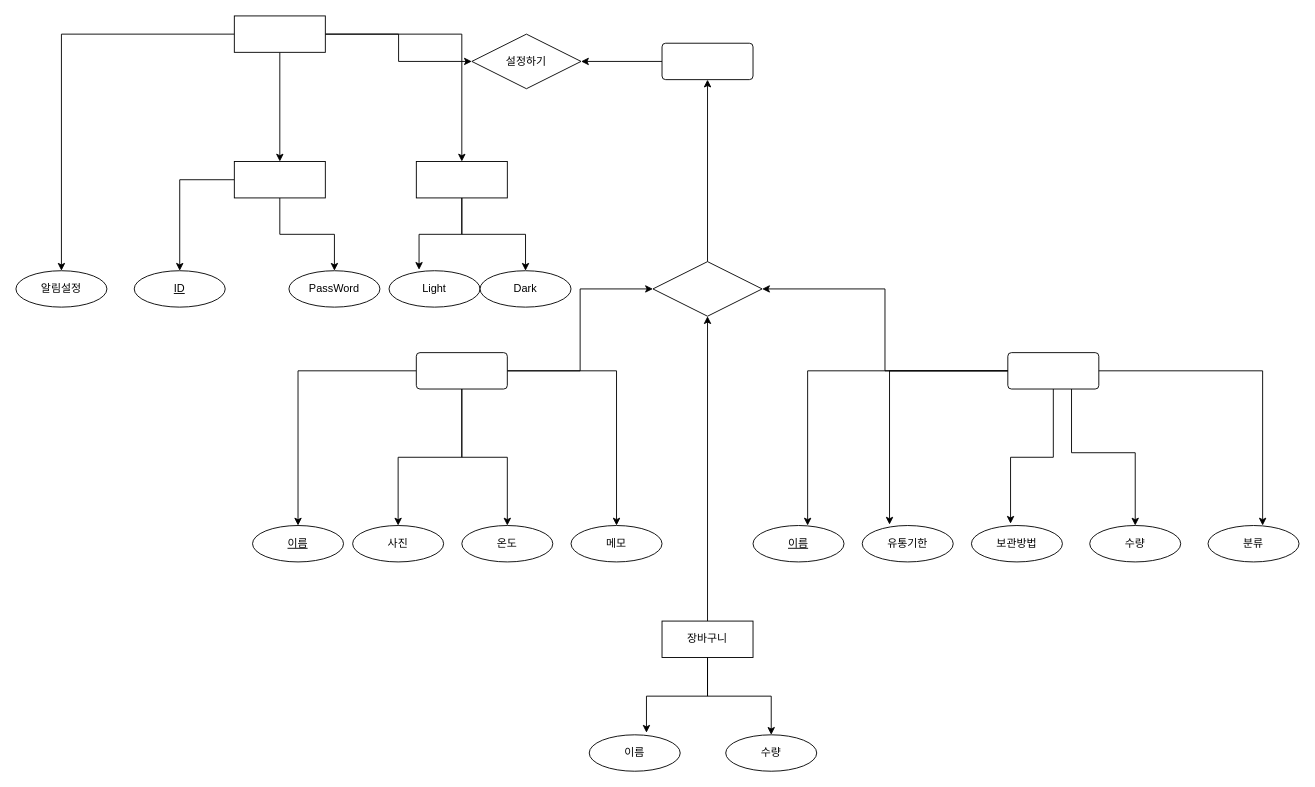
Image size: 1315x787. Some labels were removed from this diagram. Here are the shapes that lost their labels. From the top down, the centre of each, then its label:
the point at 279,33: 설정
the point at 707,61: 사용자
the point at 279,179: 로그인
the point at 461,179: 테마
the point at 707,288: 추가
the point at 461,370: 냉장고
the point at 1053,370: 식품
